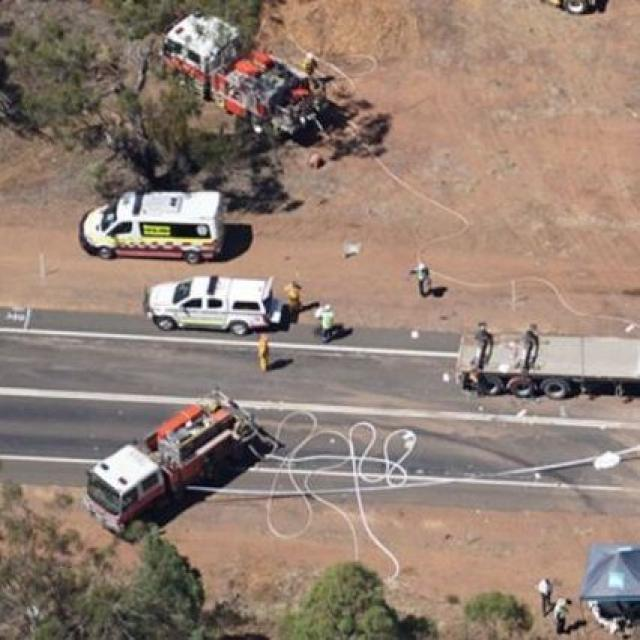traffic_incident: (446, 314, 616, 398)
